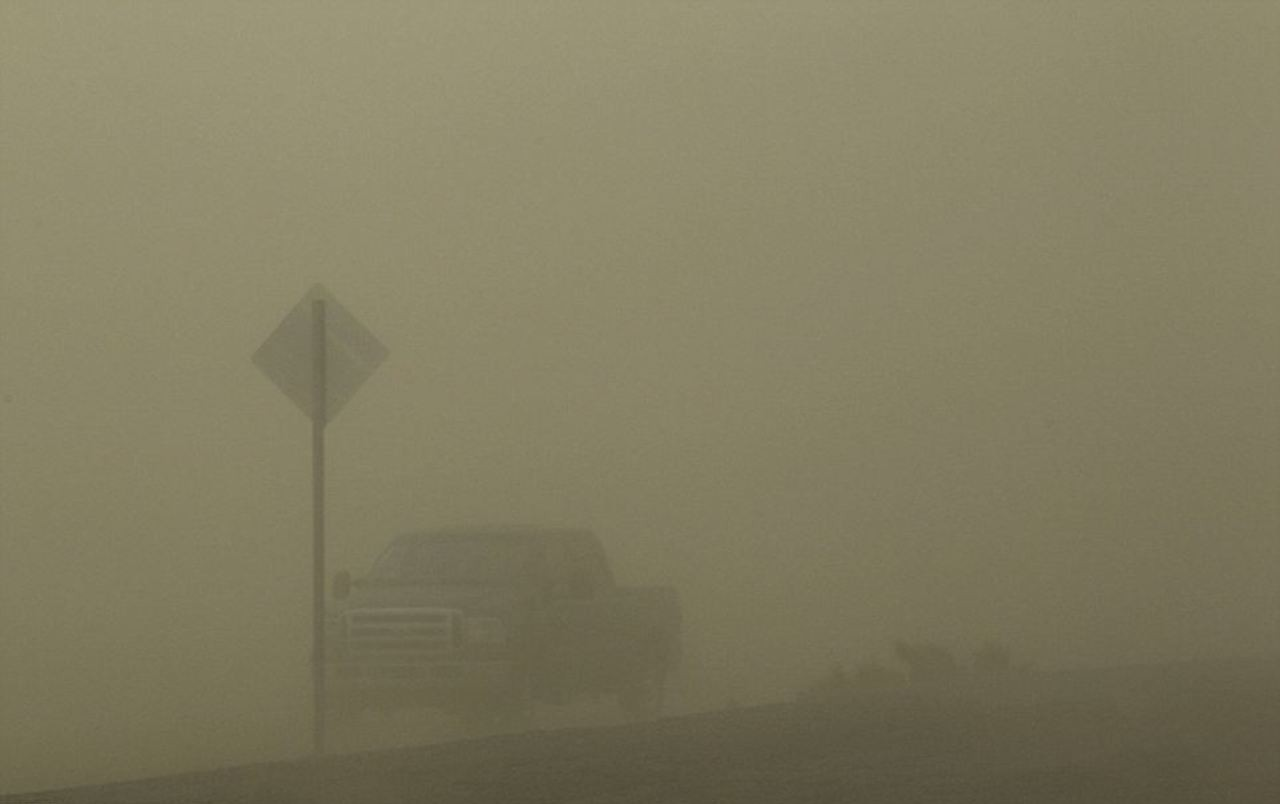car: (339, 521, 680, 715)
